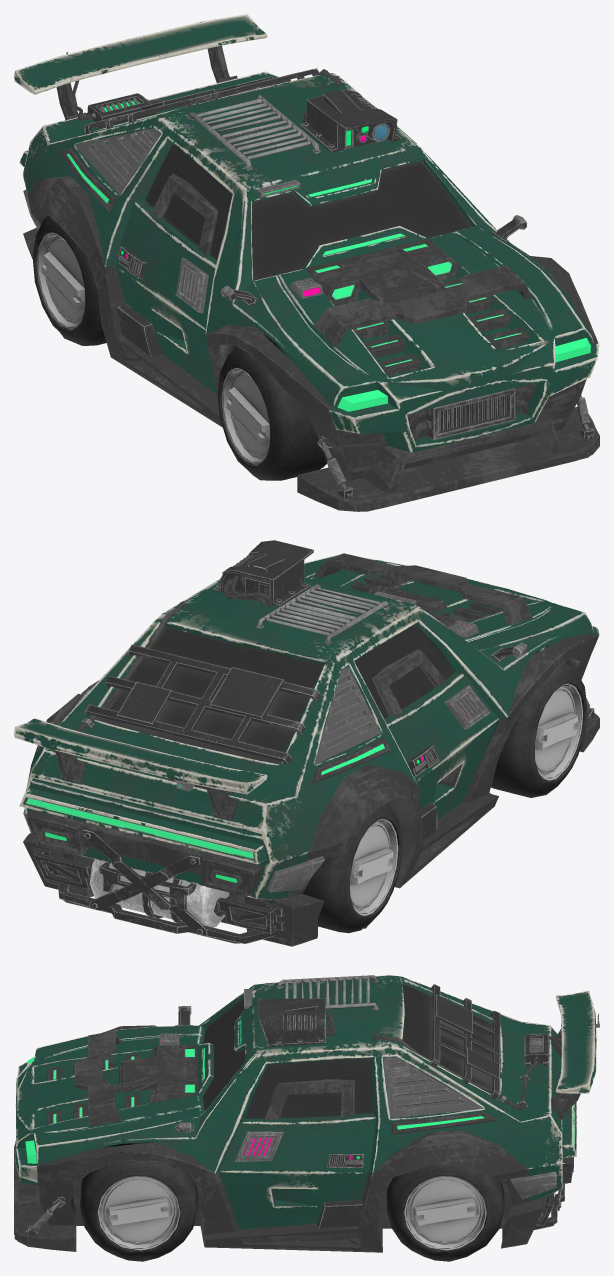
The model's file is green-bug.glb.
3 views of the same model, one above another, from view 1: azimuth 30°, elevation 25°; view 2: azimuth 150°, elevation 25°; view 3: azimuth 270°, elevation 25° (orthographic). The views are drawn at different scales.
Parts seen in each view (by area): view 1: Circle.001_MatWheel_0; view 2: Circle.001_MatWheel_0; view 3: Circle.001_MatWheel_0.
Part boxes in pixels (bbox=[...]): Circle.001_MatWheel_0: bbox=[14, 14, 599, 511]; Circle.001_MatWheel_0: bbox=[14, 540, 599, 946]; Circle.001_MatWheel_0: bbox=[14, 975, 599, 1261].
Bounding box in the file's own units: 1.97 × 1.48 × 3.6.
Materials: 3 (3 with a texture image).
